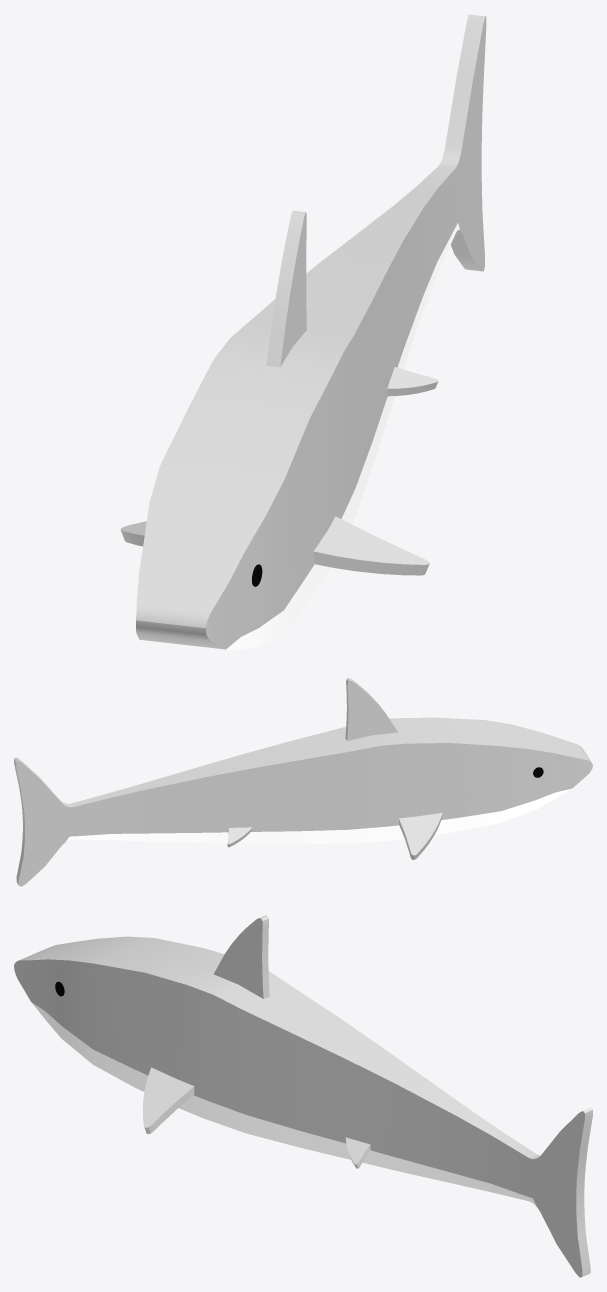
The model's file is shark.glb.
The picture shows the model from 3 angles, top to bottom: view 1: azimuth 30°, elevation 25°; view 2: azimuth 150°, elevation 25°; view 3: azimuth 270°, elevation 25°; orthographic projection. The views are drawn at different scales.
Visible parts, largest first — view 1: Plane.170; view 2: Plane.170; view 3: Plane.170.
Boxes of the visible parts, bbox=[...] form: Plane.170: bbox=[120, 14, 486, 649]; Plane.170: bbox=[14, 678, 592, 886]; Plane.170: bbox=[14, 915, 592, 1277].
Bounding box in the file's own units: 2.22 × 0.9453 × 2.22.
Materials: 1 (1 with a texture image).
